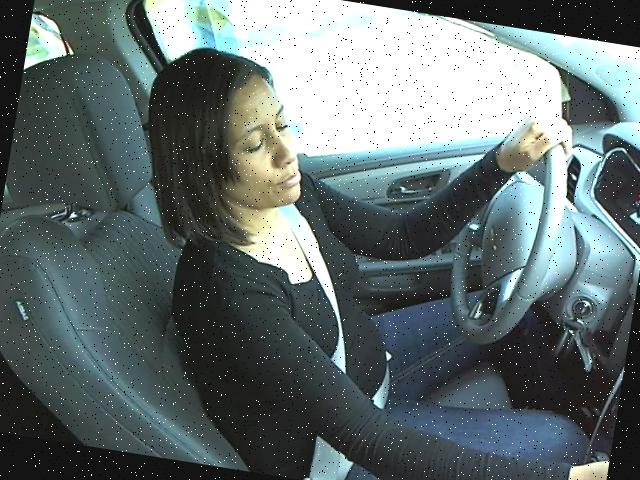c3 - Operating the Radio: (81, 32, 639, 479)
